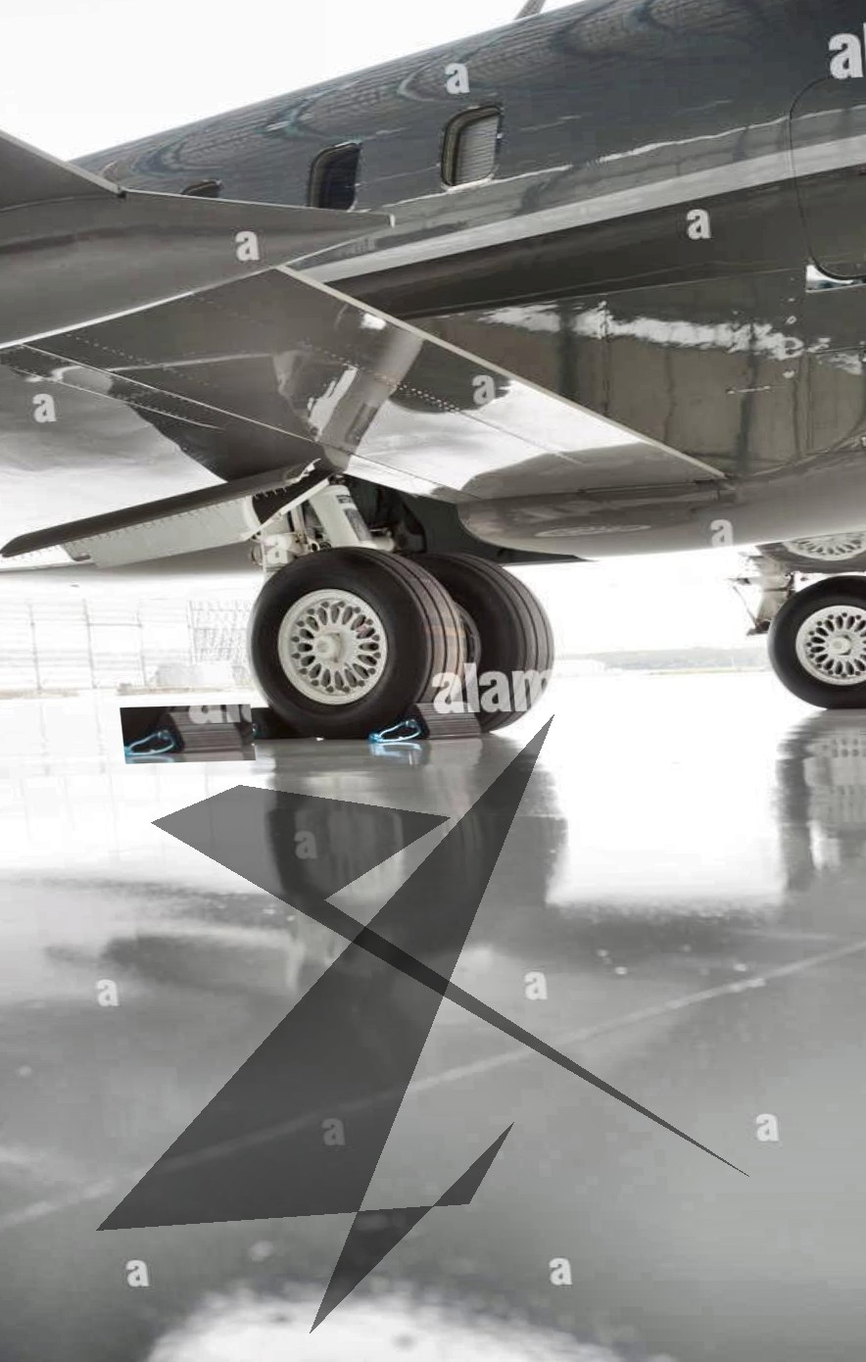chock: (120, 704, 256, 764), (372, 696, 494, 749), (227, 696, 332, 742)
wheel: (234, 544, 465, 738), (399, 552, 559, 734), (761, 570, 866, 711)
